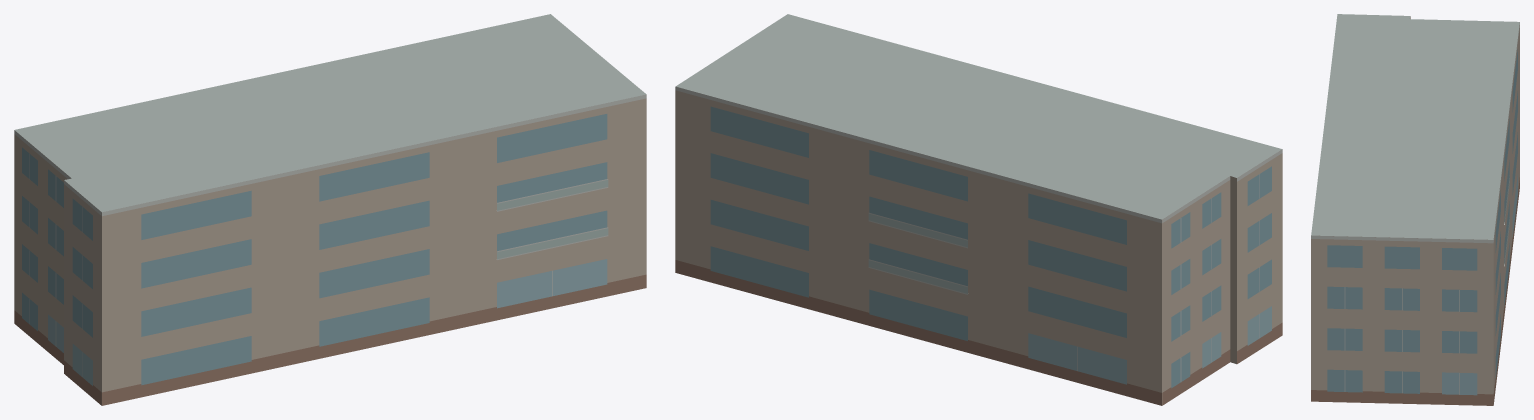
Rendered from survey-upis-32542071.glb.
3 renders of one model, left to right at view 1: azimuth 30°, elevation 25°; view 2: azimuth 150°, elevation 25°; view 3: azimuth 270°, elevation 25°, orthographic. The views are drawn at different scales.
Parts seen in each view (by area): view 1: survey-upis-32542071.tmp; view 2: survey-upis-32542071.tmp; view 3: survey-upis-32542071.tmp.
Part boxes in pixels (left/top/right/bottom): survey-upis-32542071.tmp: left=14, top=14, right=646, bottom=405; survey-upis-32542071.tmp: left=675, top=14, right=1282, bottom=405; survey-upis-32542071.tmp: left=1311, top=14, right=1519, bottom=405.
Bounding box in the file's own units: 35.21 × 12.06 × 13.76.
